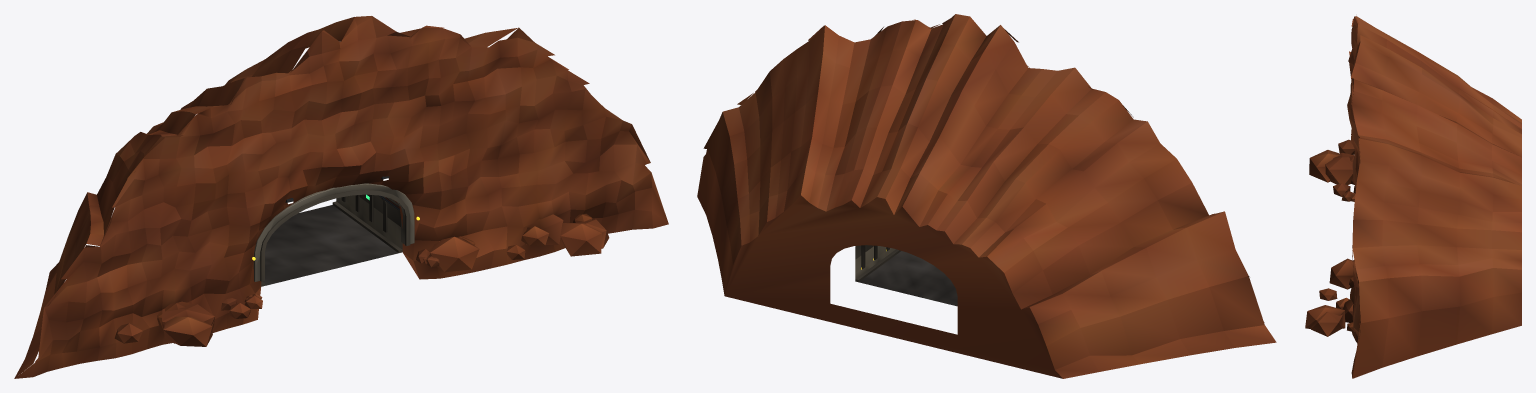
The model's file is tunnel_exit.glb.
The picture shows the model from 3 angles, left to right: view 1: azimuth 30°, elevation 25°; view 2: azimuth 150°, elevation 25°; view 3: azimuth 270°, elevation 25°; orthographic projection. The views are drawn at different scales.
Visible parts, largest first — view 1: rock_red, road_surface, concrete, concrete_dark; view 2: rock_red, road_surface, concrete_dark, concrete; view 3: rock_red.
Part boxes in pixels (box(x1,y1,x2,y2)): rock_red: box(14, 16, 668, 378); road_surface: box(262, 205, 398, 285); concrete: box(253, 183, 414, 281); concrete_dark: box(260, 190, 410, 286); rock_red: box(697, 14, 1276, 378); road_surface: box(859, 251, 957, 306); concrete_dark: box(855, 245, 900, 282); concrete: box(855, 246, 895, 278); rock_red: box(1305, 16, 1521, 378).
Size of what is drawn, in the model's own units: 68 by 27.93 by 24.57.
